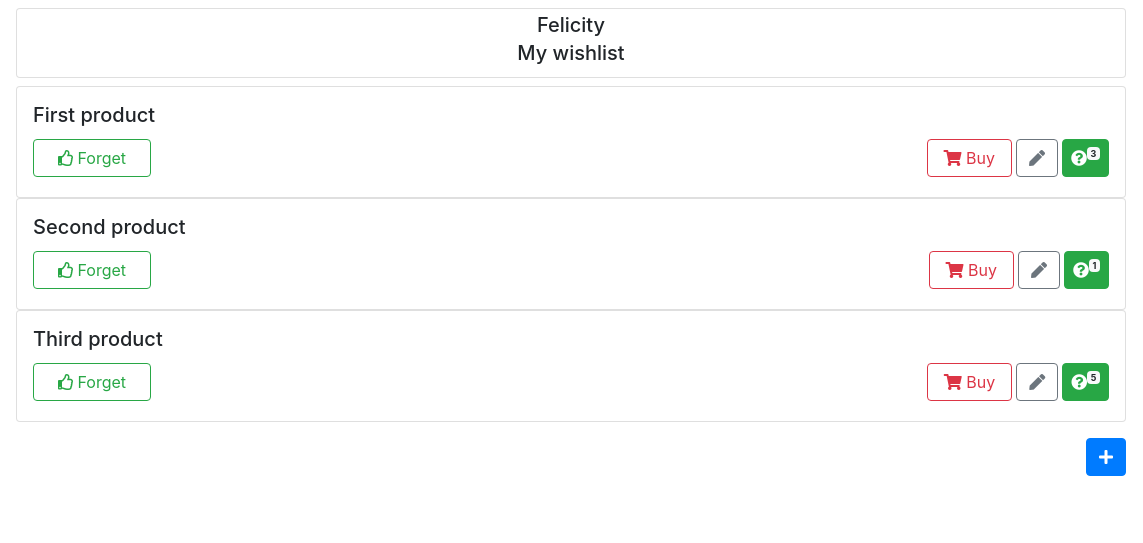
Test: App acceptance tests › It is possible to edit an existing product in the list › when the button to edit an existing product is clicked › when changing product name and saving › if returned to product listing page
The image size is (1143, 543).
Step 1. Click the 1st button titled "Edit product" → [1037, 158], box [1016, 139, 1058, 177]
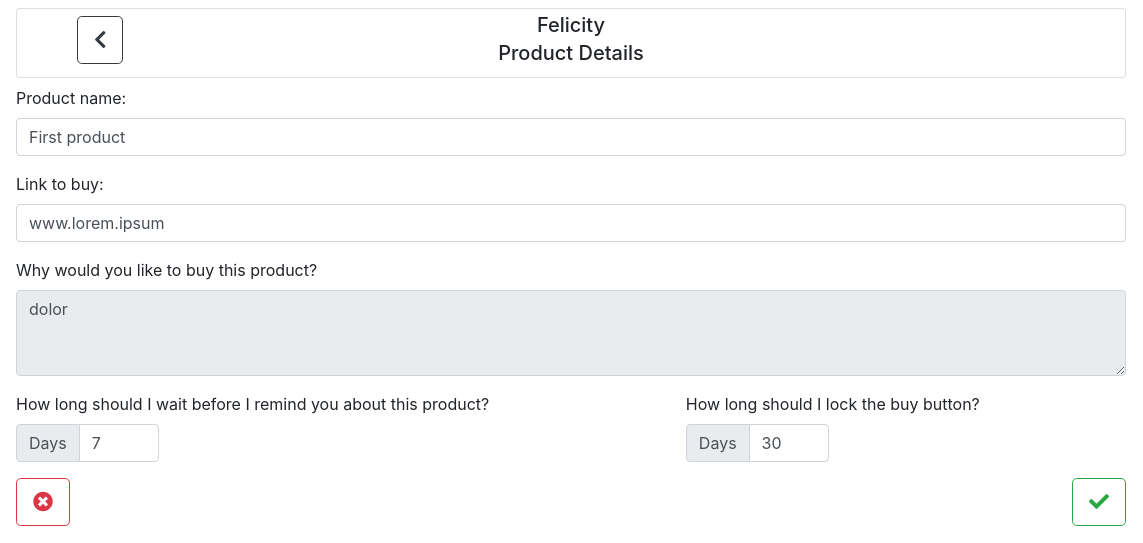
Step 2. Replace the text in the field with test id "name" with "My changed first product" → [571, 137], box [16, 118, 1126, 156]
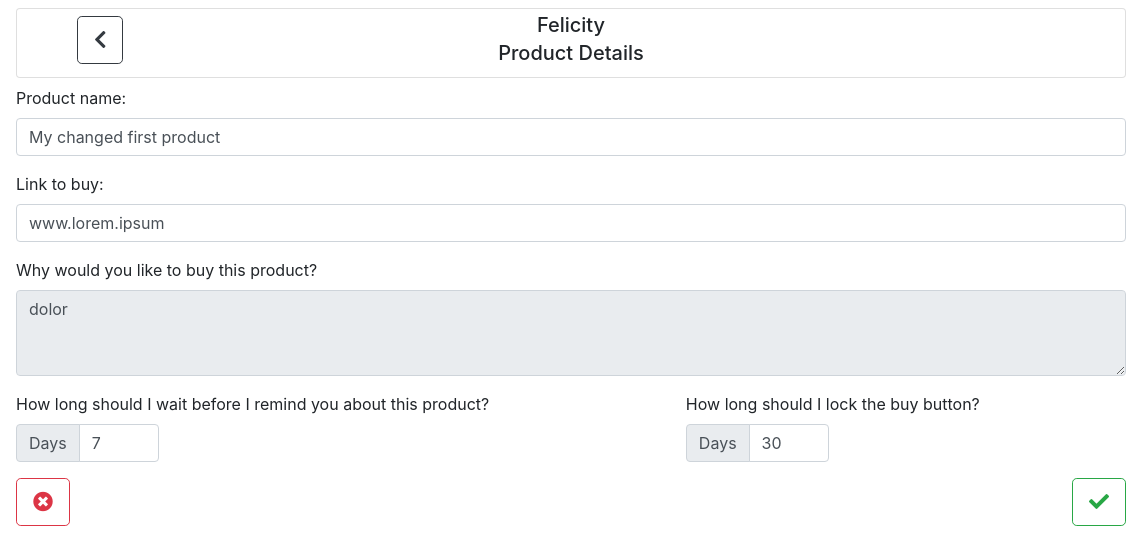
Step 3. Click the button titled "Save product" → [1099, 502], box [1072, 478, 1126, 526]
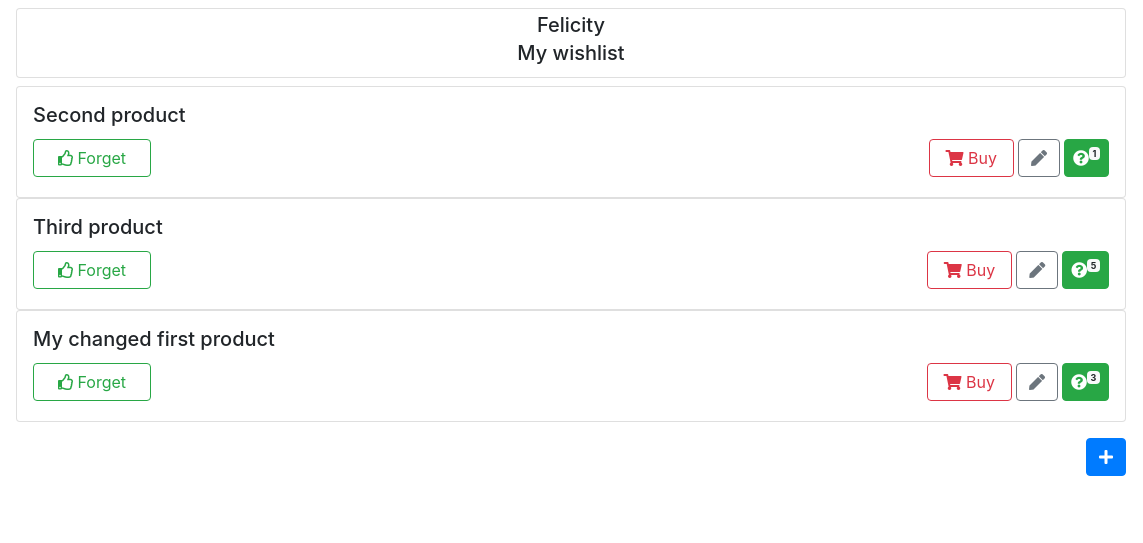
Expected: the text "My wishlist" is shown, [517, 41, 625, 65]
